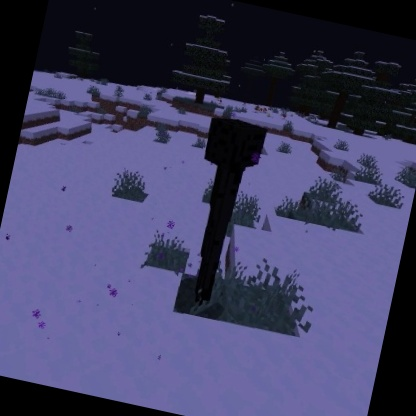enderman: (170, 111, 271, 313)
